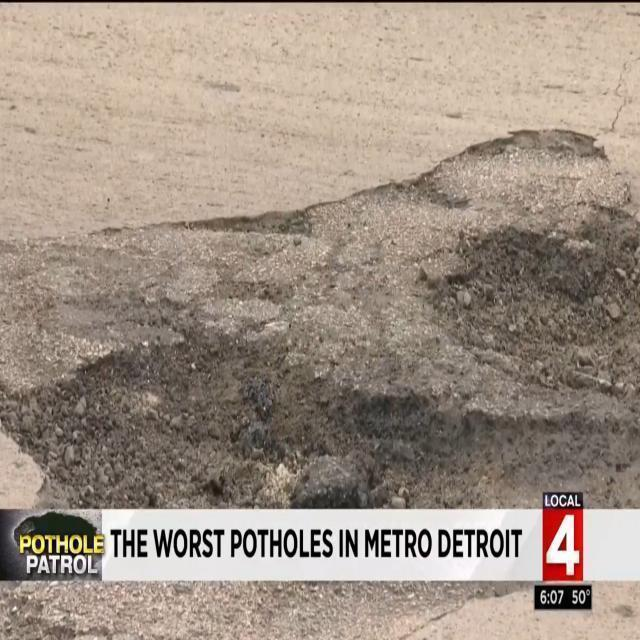Pothole: (2, 306, 640, 508), (421, 188, 640, 391)
